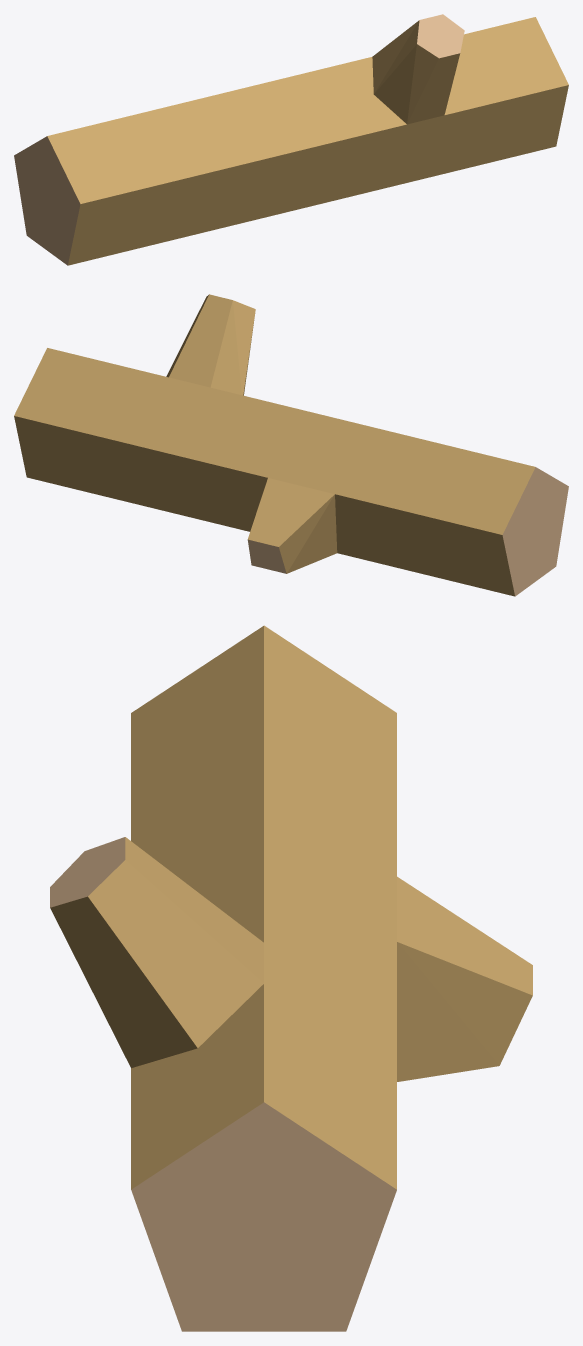
Rendered from Simple_Firewood_02_LOD.fbx.
The picture shows the model from 3 angles, top to bottom: view 1: azimuth 30°, elevation 25°; view 2: azimuth 150°, elevation 25°; view 3: azimuth 270°, elevation 25°; orthographic projection. The views are drawn at different scales.
Parts seen in each view (by area): view 1: Simple_Firewood_02_LOD0; view 2: Simple_Firewood_02_LOD0; view 3: Simple_Firewood_02_LOD0.
Part boxes in pixels (<box>): Simple_Firewood_02_LOD0: <box>14,14,568,265</box>; Simple_Firewood_02_LOD0: <box>14,294,568,596</box>; Simple_Firewood_02_LOD0: <box>50,625,532,1331</box>.
Size of what is drawn, in the model's own units: 56 by 19.03 by 23.97.
